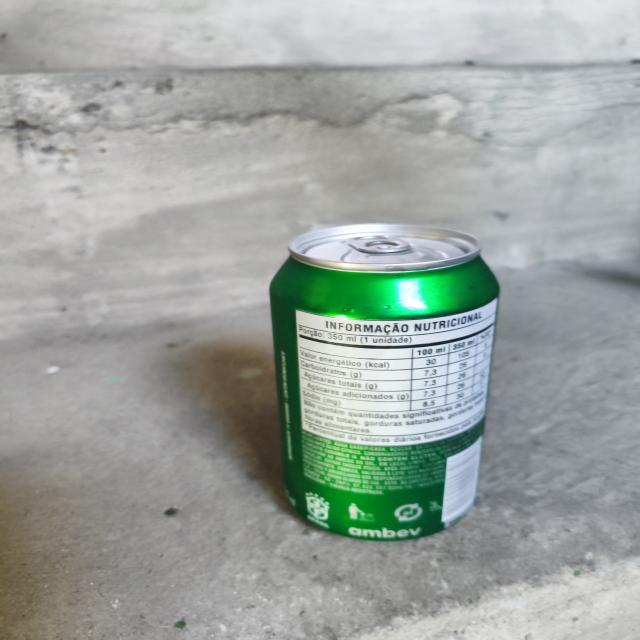Guarana: (270, 207, 504, 544)
